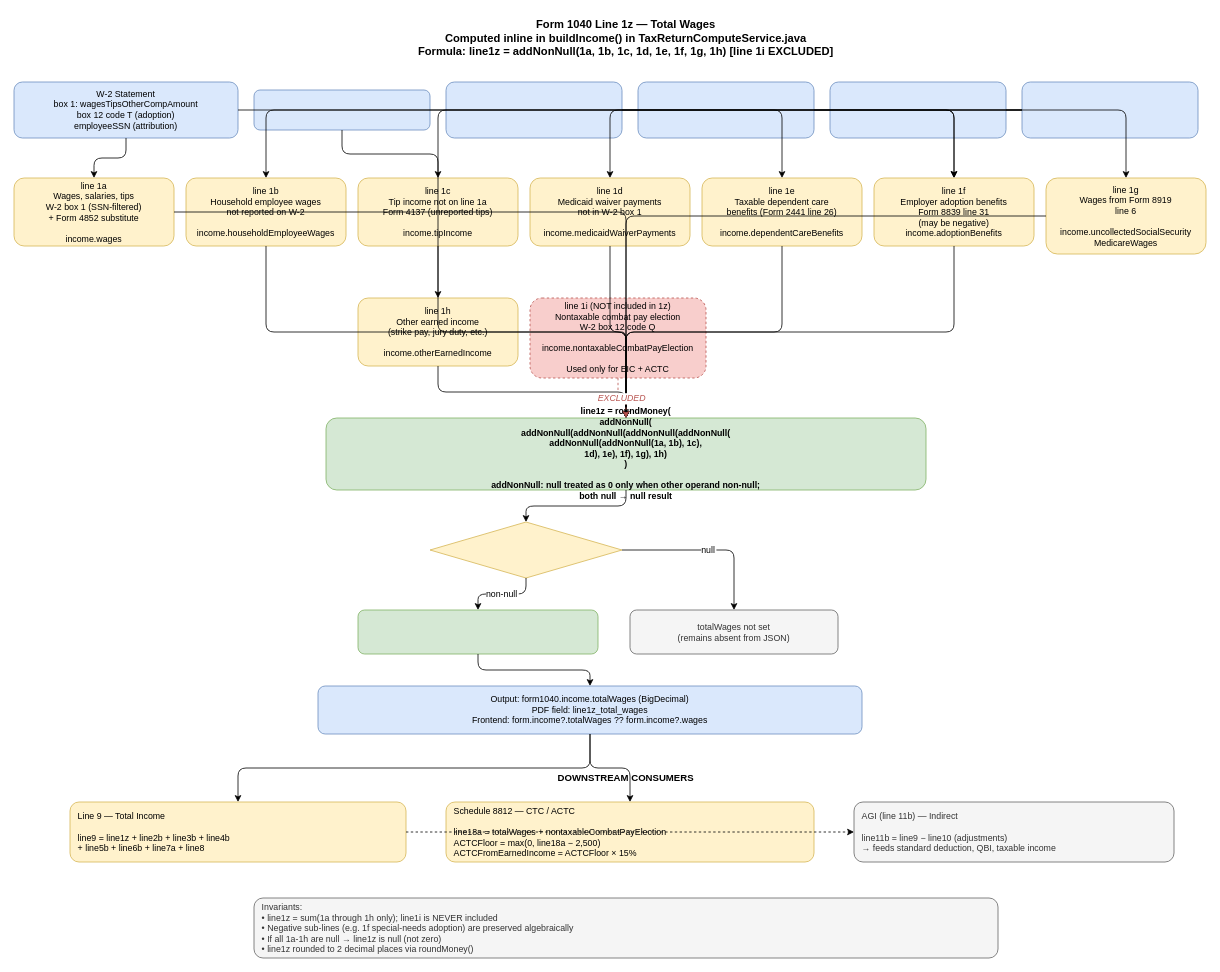
This 1220x972 diagram has some shape labels left out. The shapes that lost their labels are listed below. From the top down, each one's centre as x and y in pixels, then its label:
[341,109]: Form 4137 (tip income computation)
[533,109]: Form 2441 line 26: taxable dependent care benefits
[725,109]: Form 8839 line 31: adoption benefits (may be negative)
[917,109]: Form 8919 line 6: uncollected SS/Medicare wages
[1109,109]: Manual Entry household wages (1b) other earned income (1h) Medicaid waiver (1d)
[525,549]: line1z != null?
[477,631]: income.setTotalWages(line1z) → form1040.income.totalWages
